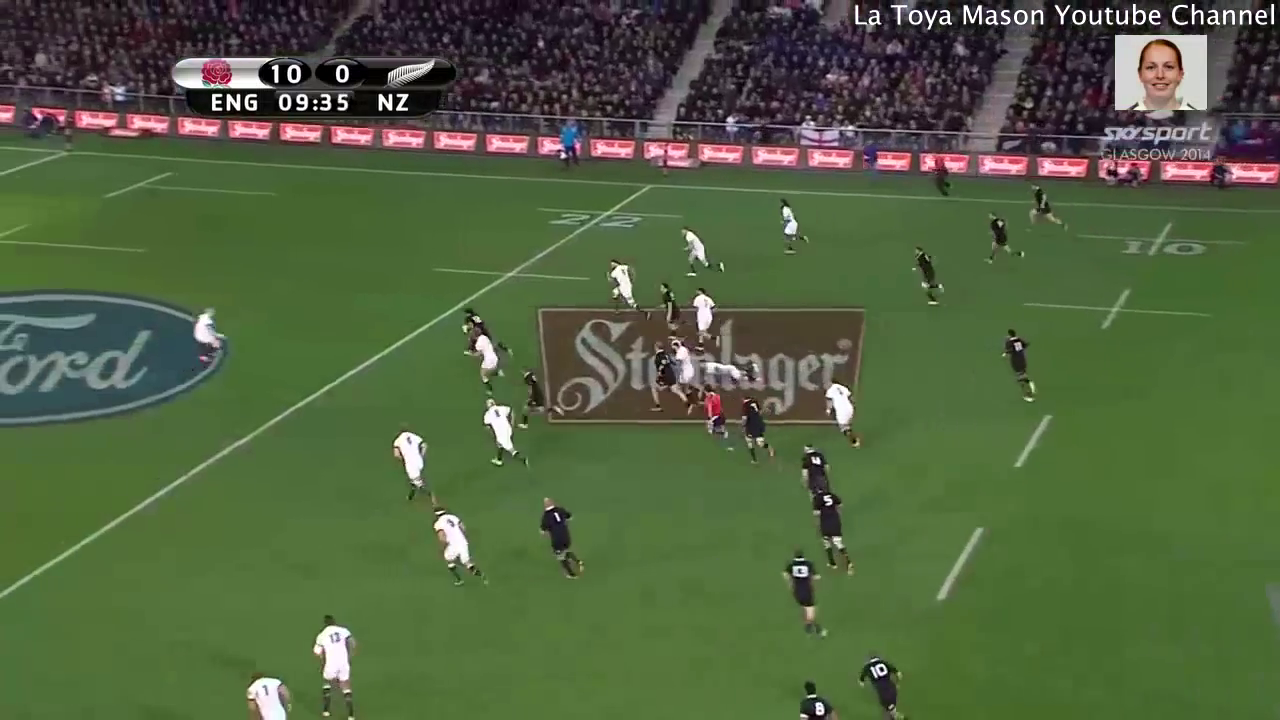10_metre: (1014, 286, 1217, 335), (1073, 218, 1251, 263)
player: (527, 482, 598, 588), (303, 610, 367, 720), (425, 494, 491, 596), (477, 393, 540, 477), (386, 424, 449, 506), (780, 549, 835, 639), (811, 478, 859, 578), (853, 648, 907, 720), (997, 326, 1046, 404), (514, 363, 569, 428), (595, 250, 647, 318), (817, 377, 865, 448), (672, 224, 731, 279), (242, 667, 301, 720), (186, 302, 230, 370), (648, 337, 684, 417), (735, 394, 775, 465), (770, 192, 814, 256), (906, 242, 948, 308), (1021, 181, 1075, 232), (982, 208, 1028, 265), (466, 325, 501, 392), (793, 437, 834, 493), (696, 383, 732, 443), (687, 285, 719, 352), (794, 678, 842, 720), (688, 357, 761, 384), (670, 337, 702, 393), (452, 298, 488, 346), (655, 279, 685, 329)
